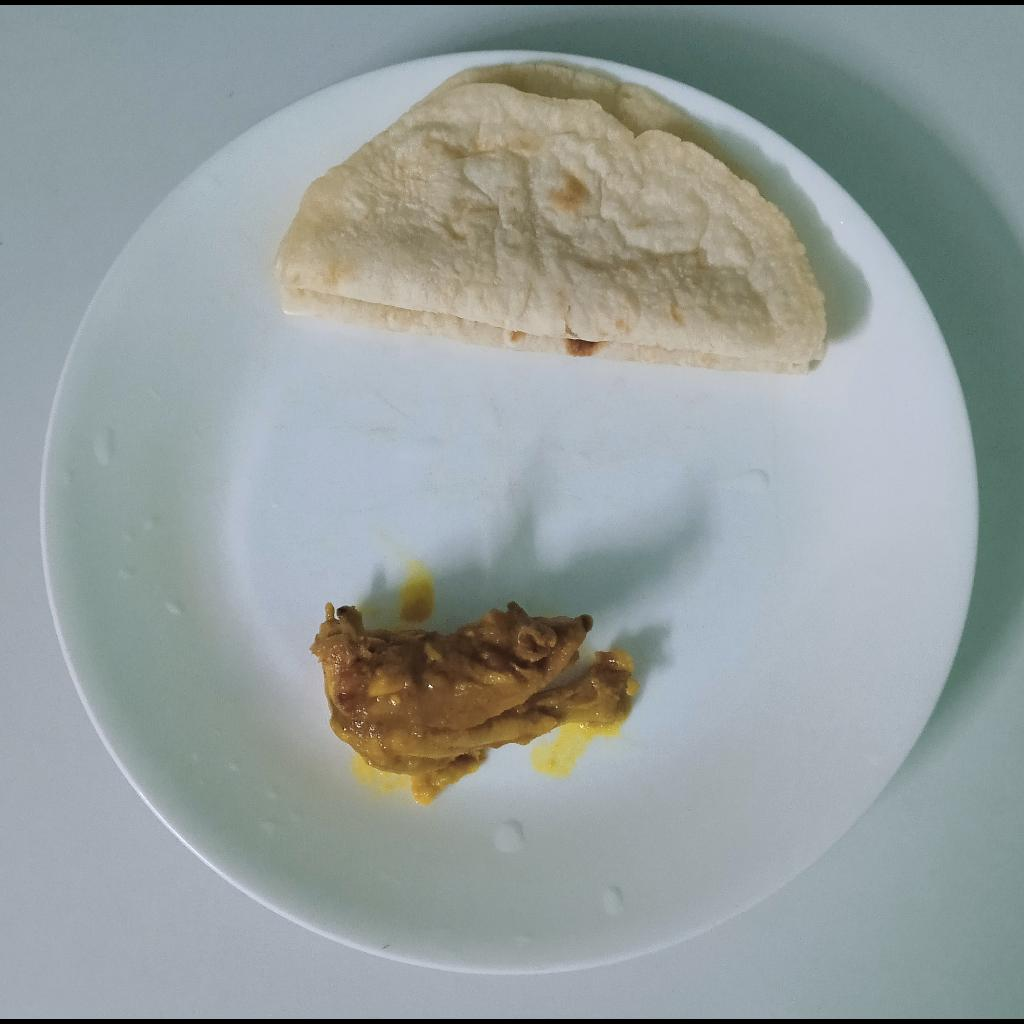chicken: (308, 599, 634, 805)
ruti: (270, 61, 827, 373)
